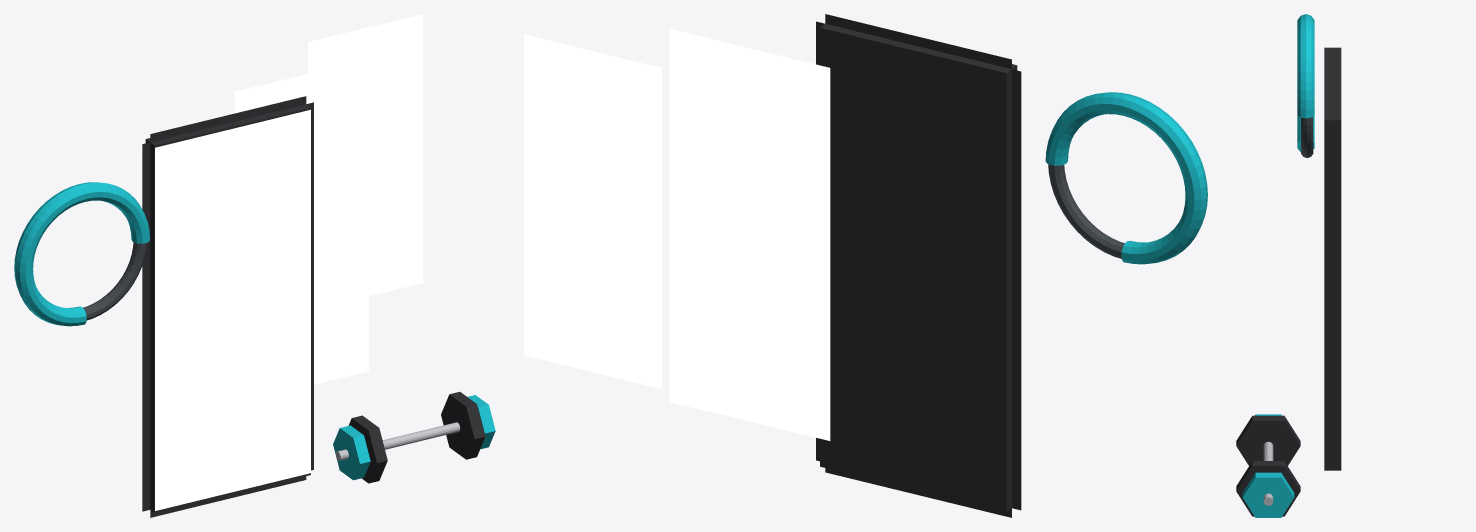
Rendered from fitness.glb.
The picture shows the model from 3 angles, left to right: view 1: azimuth 30°, elevation 25°; view 2: azimuth 150°, elevation 25°; view 3: azimuth 270°, elevation 25°; orthographic projection. The views are drawn at different scales.
Visible parts, largest first — view 1: Fit_Screen, Fit_Card1, Fit_Card2, Fit_Body, Fit_RingArc, Fit_PlateR0, Fit_PlateL1, Fit_RingTrack, Fit_PlateL0, Fit_Bar, Fit_PlateR1; view 2: Fit_Body, Fit_Card1, Fit_Card2, Fit_RingArc, Fit_RingTrack; view 3: Fit_Body, Fit_PlateL0, Fit_RingArc, Fit_PlateR1, Fit_PlateR0, Fit_RingTrack, Fit_Bar.
Part boxes in pixels (bbox=[...]): Fit_Screen: bbox=[155, 109, 310, 510]; Fit_Card1: bbox=[234, 59, 368, 384]; Fit_Card2: bbox=[308, 14, 423, 295]; Fit_Body: bbox=[142, 96, 313, 517]; Fit_RingArc: bbox=[14, 182, 150, 326]; Fit_PlateR0: bbox=[441, 392, 485, 459]; Fit_PlateL1: bbox=[333, 425, 370, 480]; Fit_RingTrack: bbox=[83, 242, 146, 320]; Fit_PlateL0: bbox=[348, 415, 387, 483]; Fit_Bar: bbox=[335, 418, 492, 460]; Fit_PlateR1: bbox=[468, 395, 495, 449]; Fit_Body: bbox=[816, 14, 1021, 517]; Fit_Card1: bbox=[669, 29, 830, 440]; Fit_Card2: bbox=[524, 34, 661, 388]; Fit_RingArc: bbox=[1045, 92, 1207, 264]; Fit_RingTrack: bbox=[1048, 164, 1124, 258]; Fit_Body: bbox=[1324, 47, 1341, 470]; Fit_PlateL0: bbox=[1236, 415, 1300, 465]; Fit_RingArc: bbox=[1297, 14, 1314, 151]; Fit_PlateR1: bbox=[1242, 472, 1294, 517]; Fit_PlateR0: bbox=[1236, 461, 1300, 516]; Fit_RingTrack: bbox=[1301, 117, 1313, 157]; Fit_Bar: bbox=[1263, 441, 1273, 505].
Bounding box in the file's own units: 2.51 × 1.88 × 1.05.
